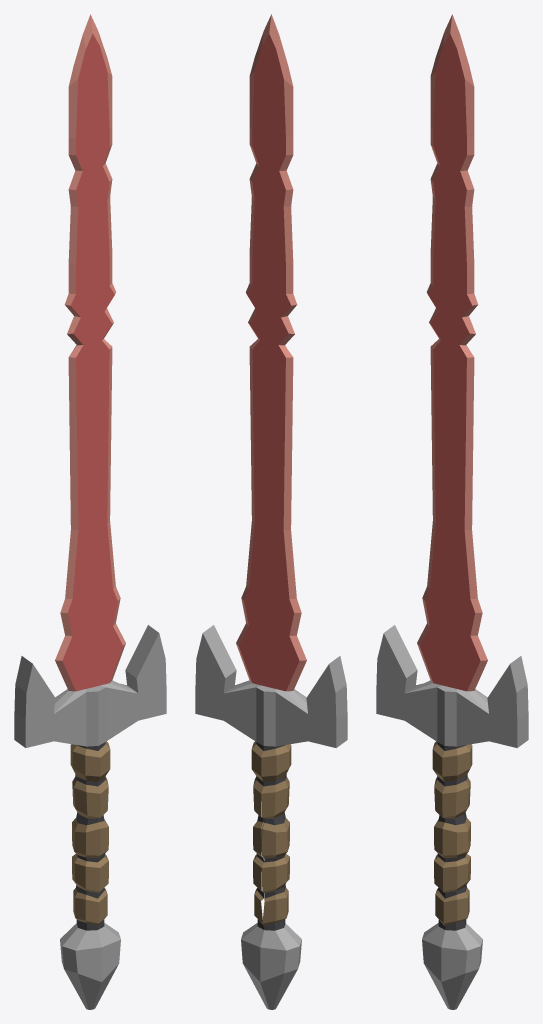
File: q_claymore.gltf
3 views of the same model, side by side, from view 1: azimuth 30°, elevation 25°; view 2: azimuth 150°, elevation 25°; view 3: azimuth 330°, elevation 25° (orthographic).
Parts seen in each view (by area): view 1: Claymore; view 2: Claymore; view 3: Claymore.
Boxes of the visible parts, x1,y1,x2,y2 form: Claymore: (14,14,166,1009); Claymore: (195,14,347,1009); Claymore: (376,14,528,1009).
Size of the model in its own units: 0.2373 by 1.6 by 0.0658.
